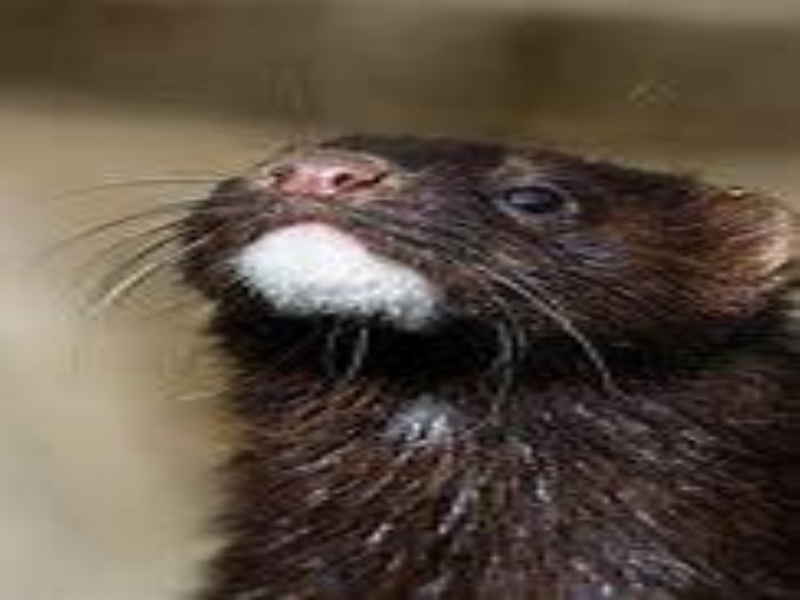minkish: (166, 132, 800, 596)
